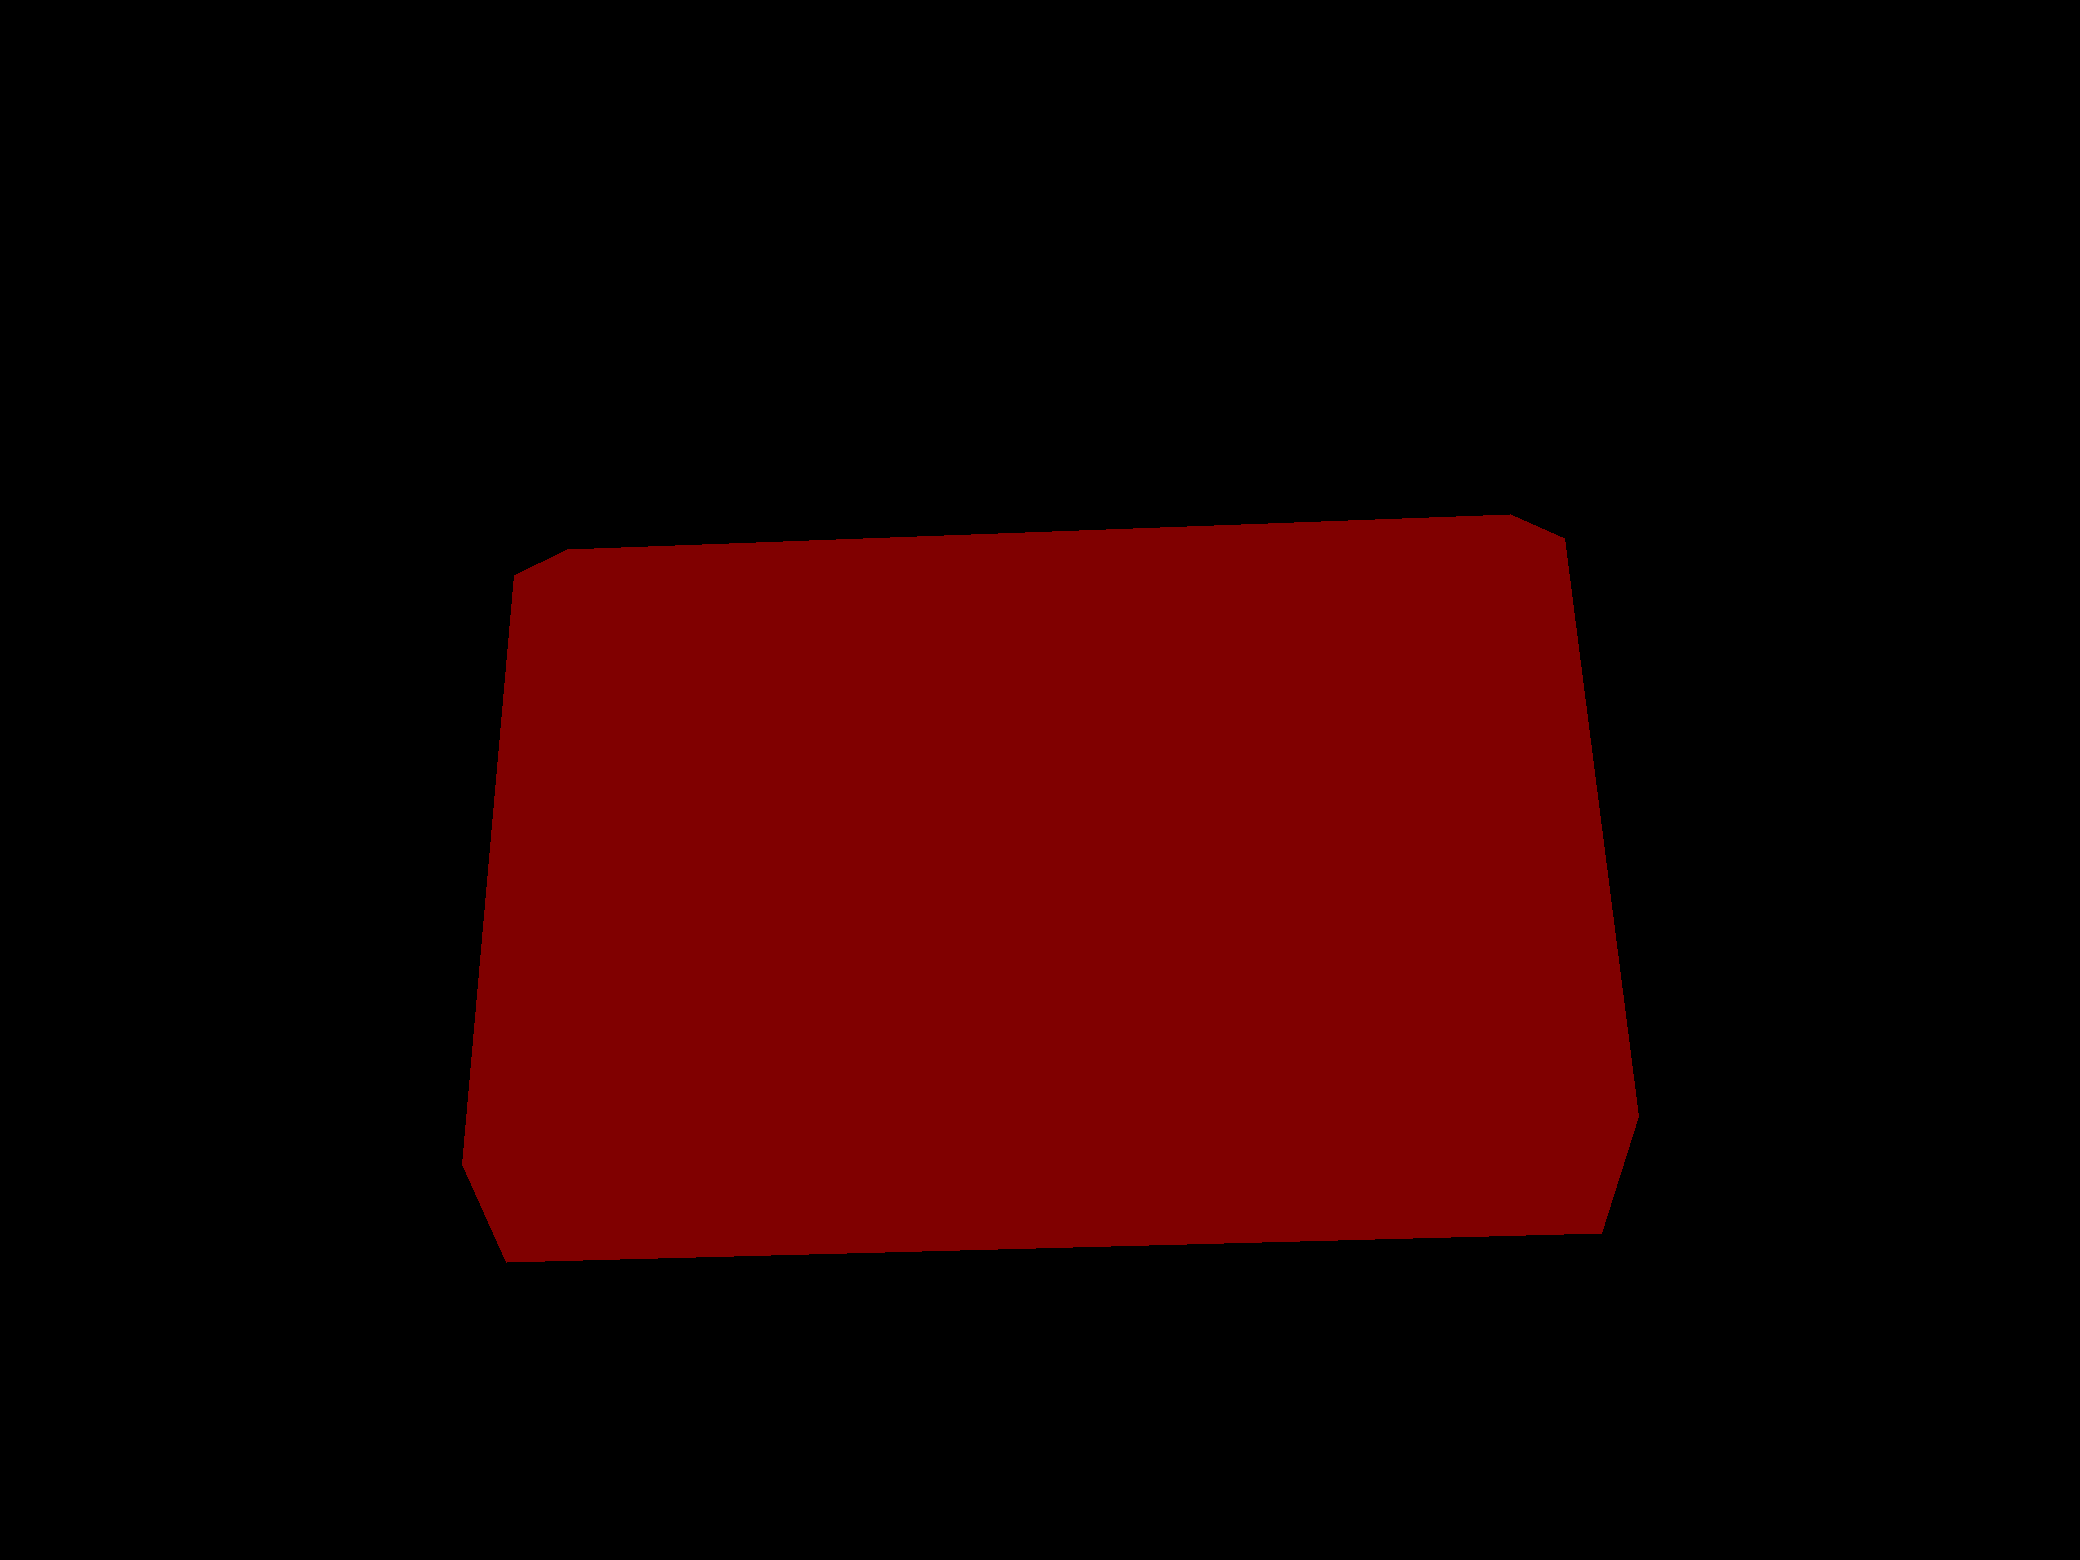sign: (462, 515, 1638, 1262)
